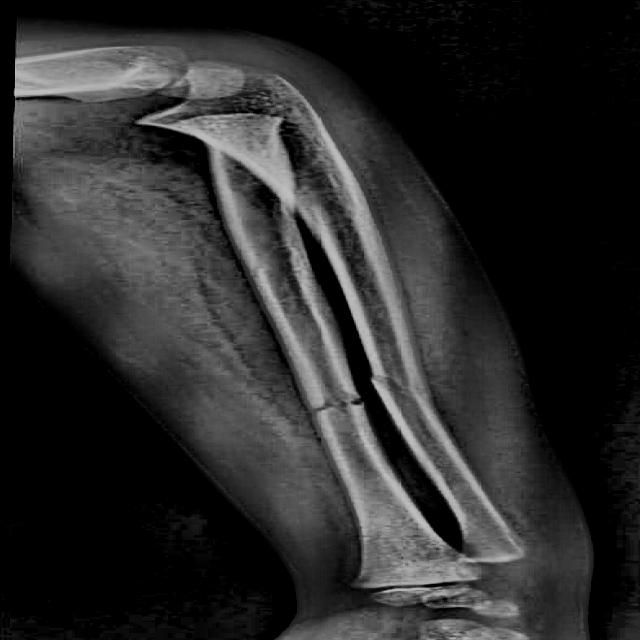line: (368, 372, 430, 395), (314, 398, 362, 416)
